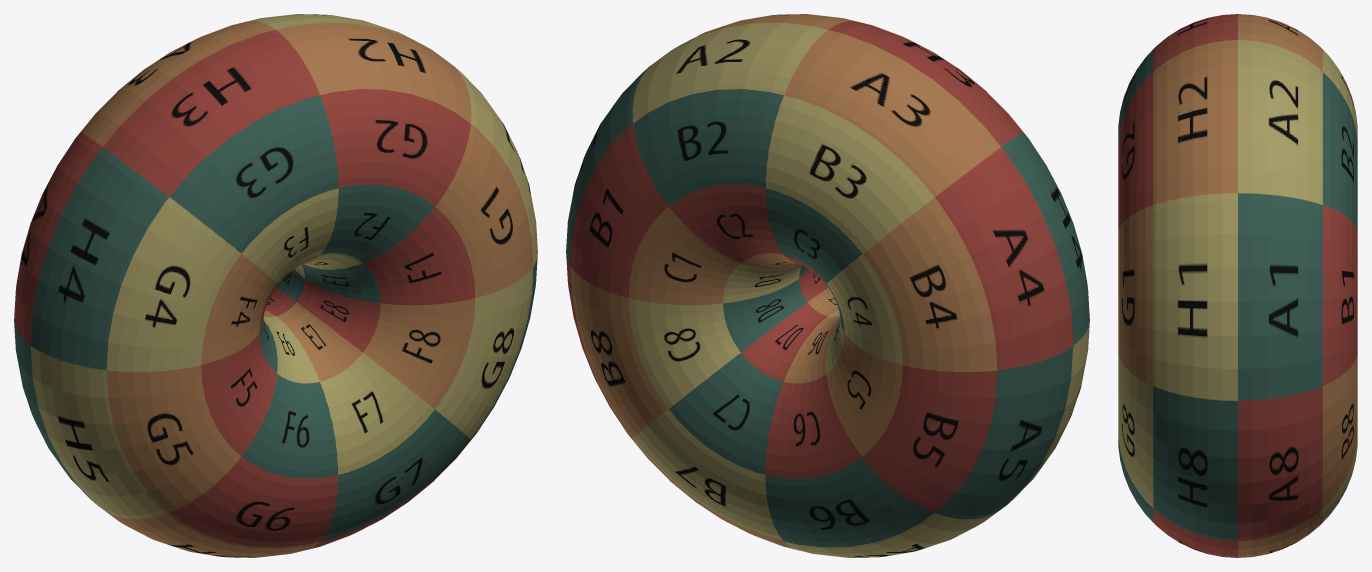
Rendered from texture_torus_R3_r28.glb.
The picture shows the model from 3 angles, left to right: view 1: azimuth 30°, elevation 25°; view 2: azimuth 150°, elevation 25°; view 3: azimuth 270°, elevation 25°; orthographic projection. The views are drawn at different scales.
Visible parts, largest first — view 1: world; view 2: world; view 3: world.
Part boxes in pixels (<box>): world: <box>14,14,537,557</box>; world: <box>566,14,1089,557</box>; world: <box>1118,14,1357,557</box>.
Bounding box in the file's own units: 21.47 × 21.42 × 9.45.
1 material, 1 textured.
